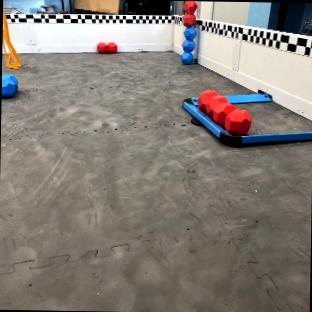Goal: (2, 10, 21, 67)
V5_BLUE: (182, 27, 195, 62), (1, 73, 17, 98)
V5_RED: (198, 89, 250, 135), (182, 0, 195, 25)
